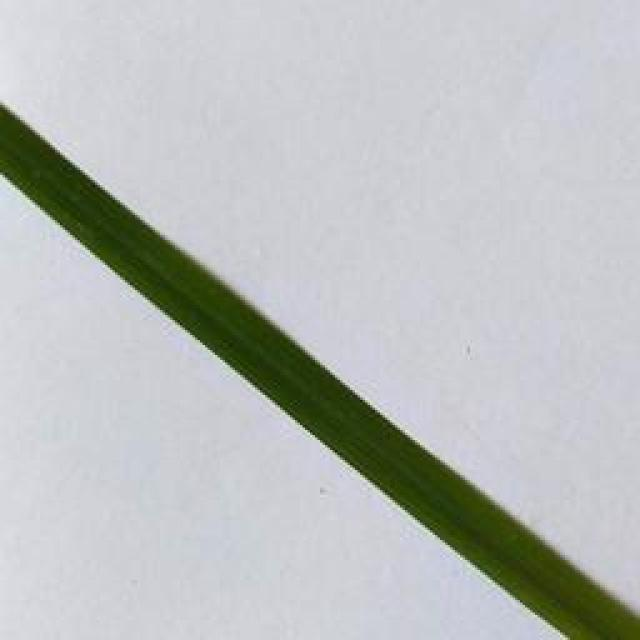Healthy-Plant: (0, 106, 640, 640)
